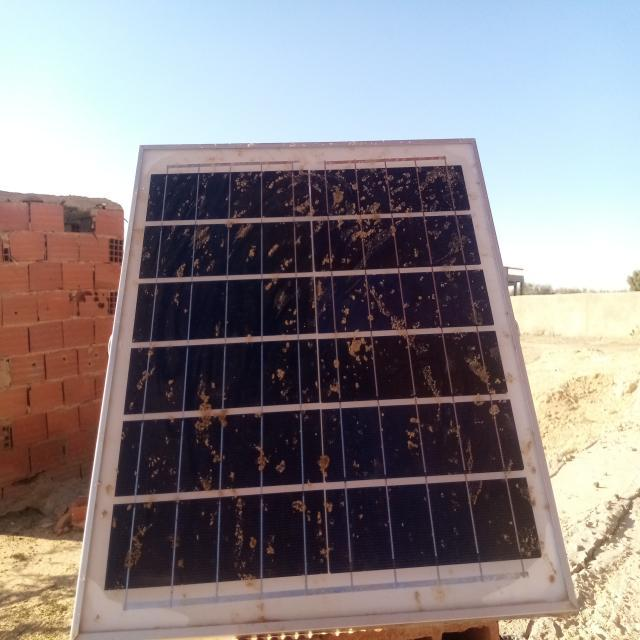faulty: (73, 141, 576, 637)
